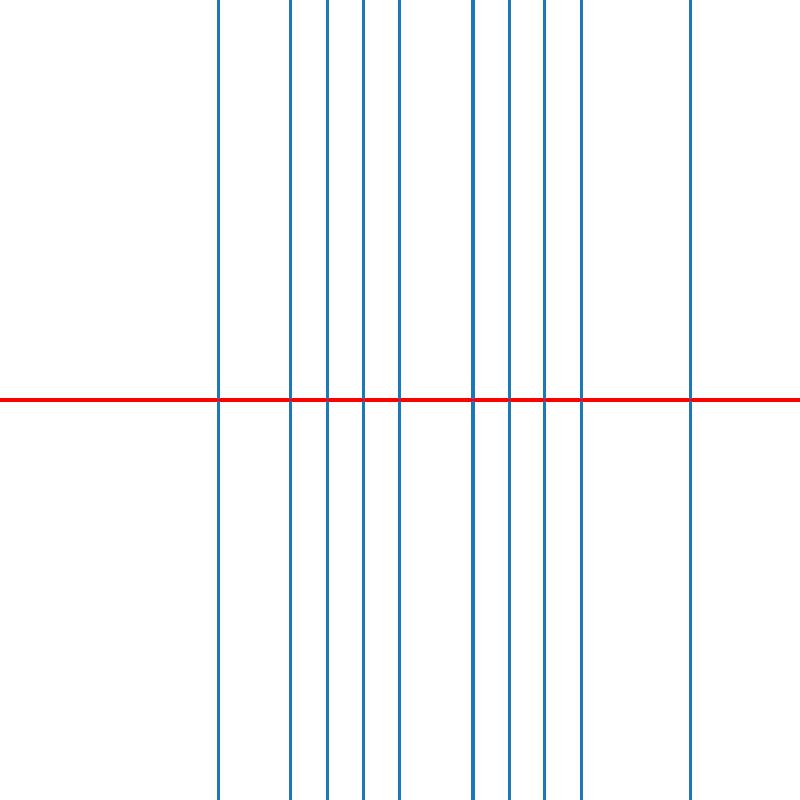root: (541, 396, 549, 404), (469, 396, 476, 404), (287, 396, 294, 404), (578, 396, 585, 404), (360, 396, 367, 404), (323, 396, 330, 404), (505, 396, 512, 404), (214, 396, 221, 404), (396, 396, 403, 404), (687, 396, 694, 404)
